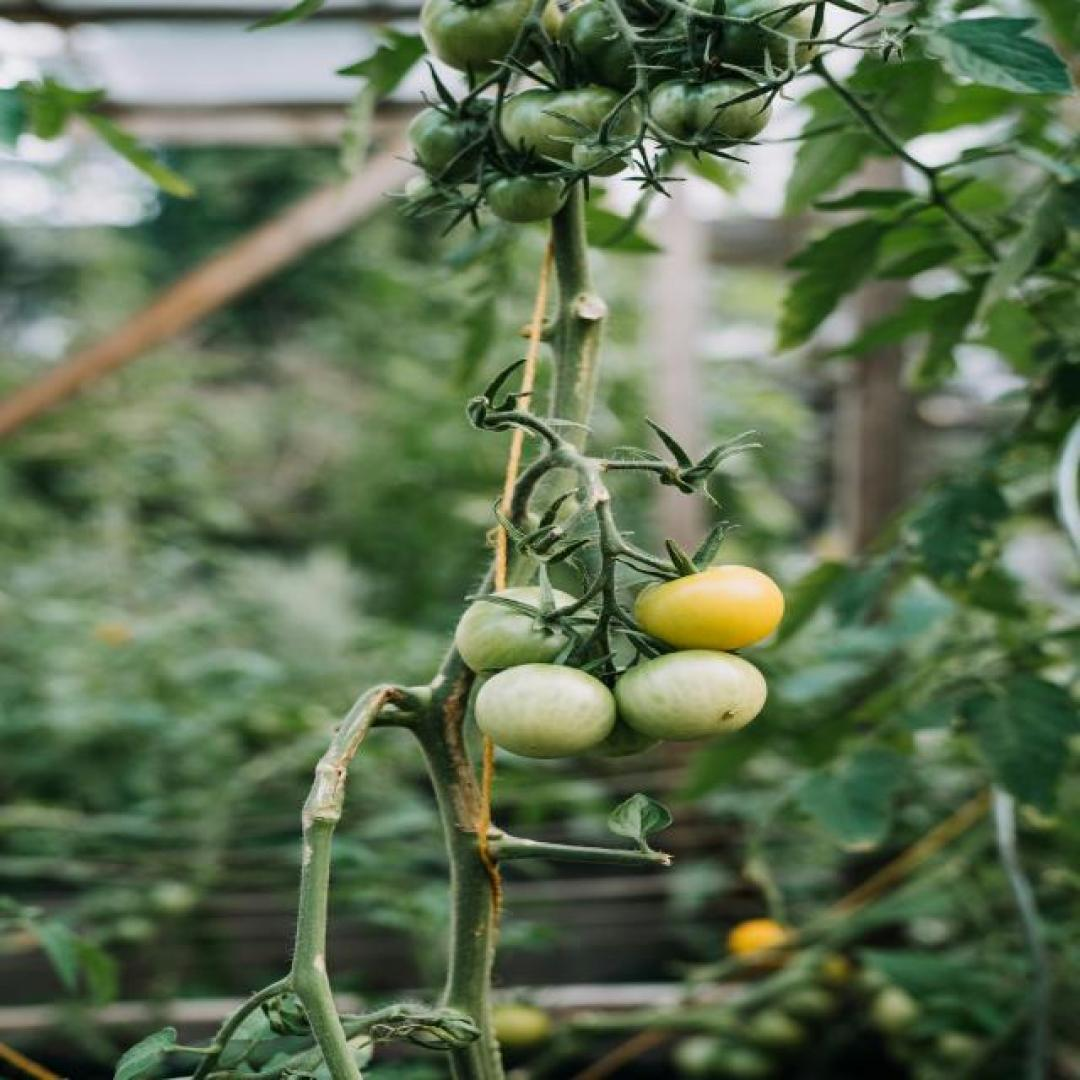mentah: (454, 584, 612, 685), (611, 652, 768, 742), (474, 660, 618, 758)
setengah_matang: (631, 567, 786, 651)
